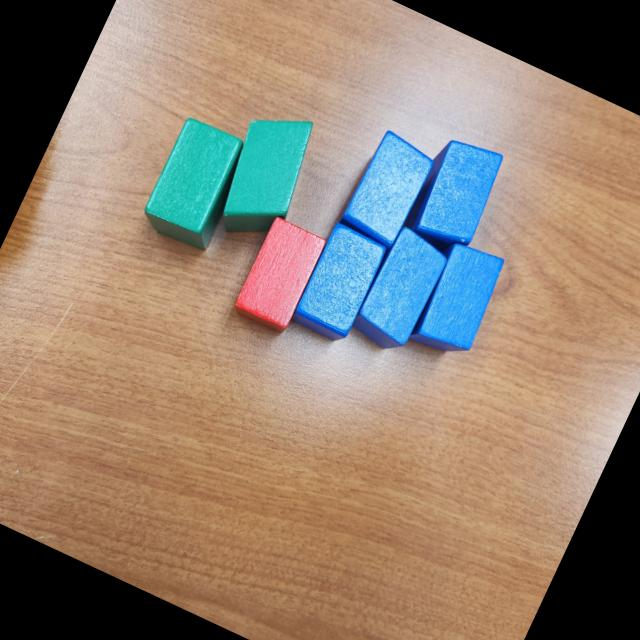blue: (396, 125, 513, 261), (346, 222, 454, 358), (406, 237, 512, 368), (334, 127, 440, 253), (287, 220, 391, 348)
green: (202, 96, 328, 253), (134, 114, 256, 256)
red: (226, 210, 332, 338)
